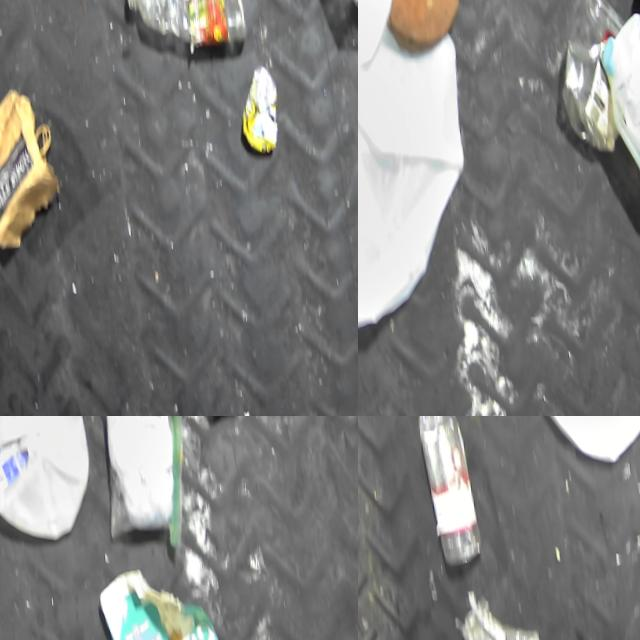can: (230, 65, 279, 160)
milk_jug: (358, 0, 482, 357), (0, 416, 93, 550), (591, 16, 640, 239), (497, 416, 640, 479)
plastic_bottle: (400, 416, 474, 570), (116, 0, 248, 60)
